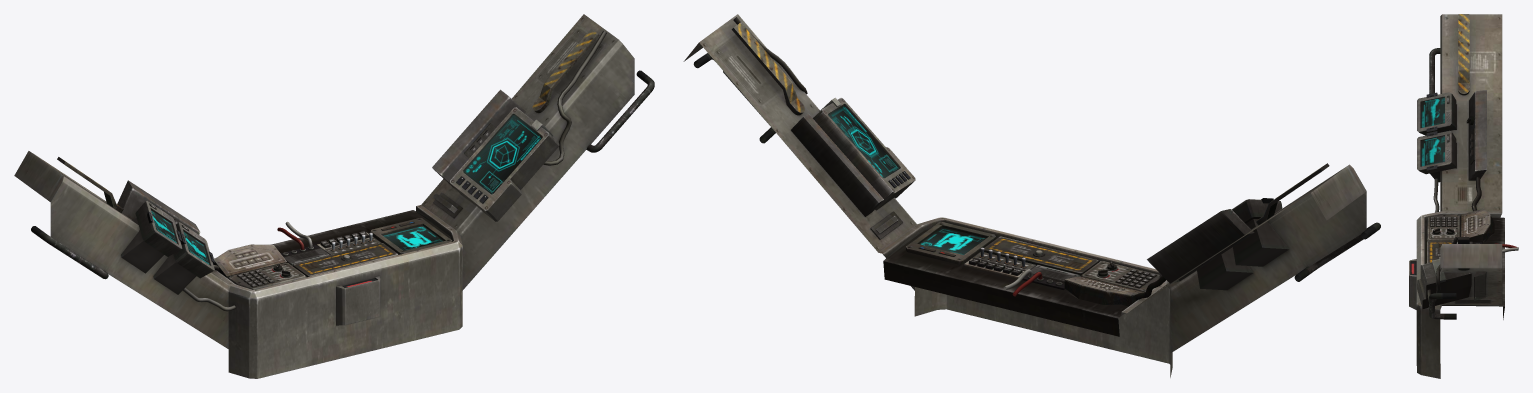
The model's file is cockpit_box1.FBX.
3 renders of one model, left to right at view 1: azimuth 30°, elevation 25°; view 2: azimuth 150°, elevation 25°; view 3: azimuth 270°, elevation 25°, orthographic. The views are drawn at different scales.
Parts seen in each view (by area): view 1: cokpit; view 2: cokpit; view 3: cokpit.
Part boxes in pixels (left/top/right/bottom): cokpit: left=14, top=14, right=654, bottom=378; cokpit: left=683, top=14, right=1380, bottom=377; cokpit: left=1409, top=14, right=1518, bottom=378.
Bounding box in the file's own units: 504 × 190 × 92.01.
